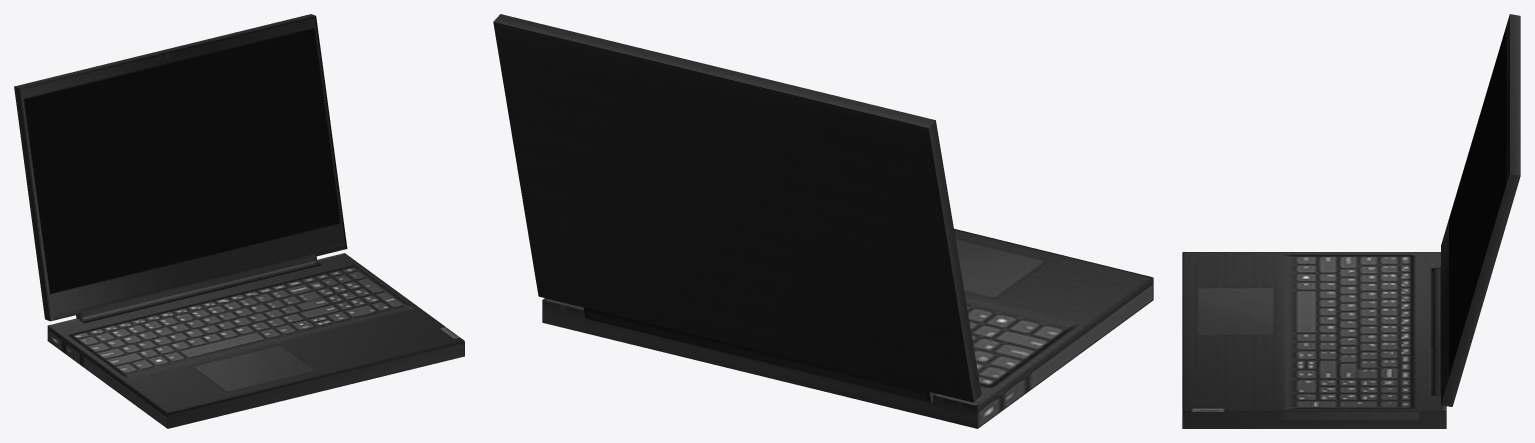
File: laptop.fbx
3 views of the same model, side by side, from view 1: azimuth 30°, elevation 25°; view 2: azimuth 150°, elevation 25°; view 3: azimuth 270°, elevation 25° (orthographic). The views are drawn at different scales.
Parts seen in each view (by area): view 1: model_0; view 2: model_0; view 3: model_0.
Part boxes in pixels (box(x1,y1,x2,y2)): model_0: box(14, 14, 464, 428); model_0: box(493, 14, 1153, 428); model_0: box(1182, 14, 1520, 428).
Size of the model in its own units: 32 by 23.84 by 28.66.
